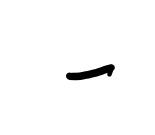minus: (66, 64, 116, 81)
